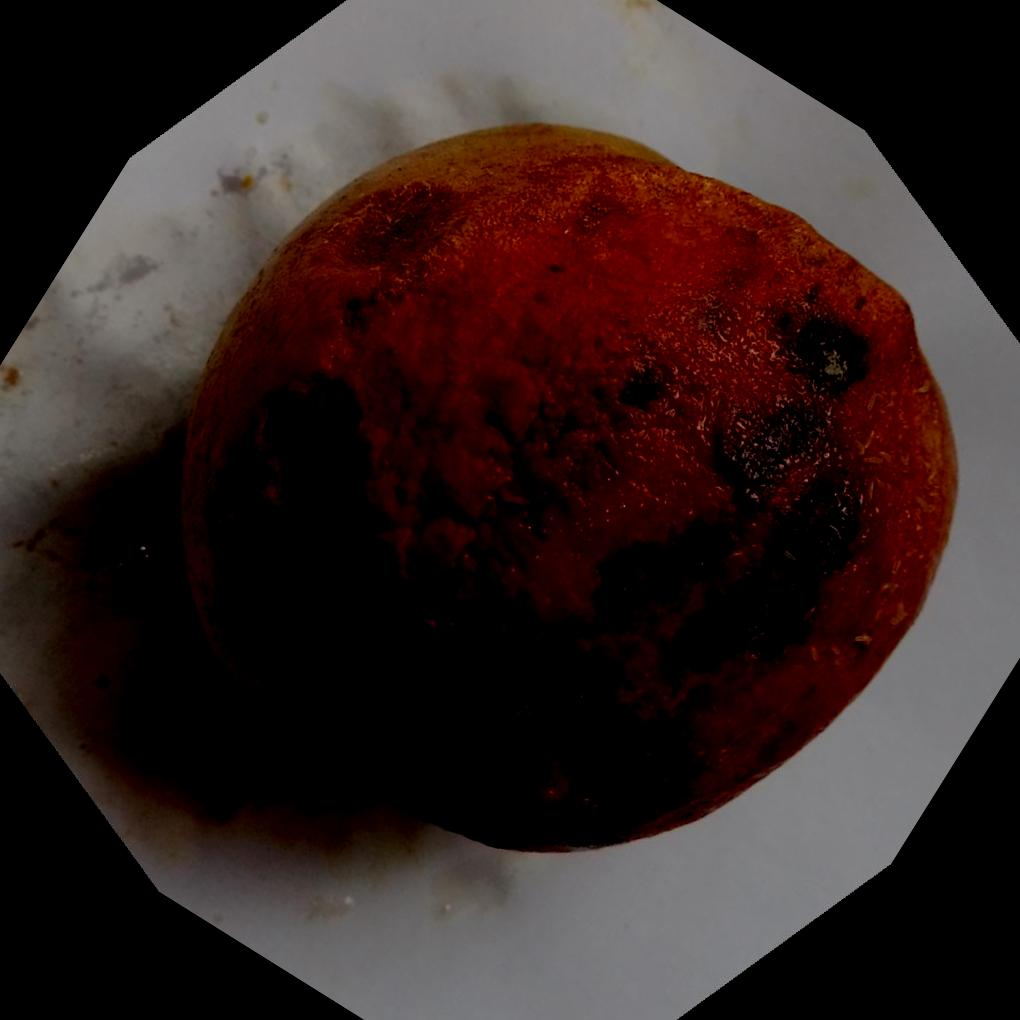FreshOrange: (172, 123, 958, 857)
